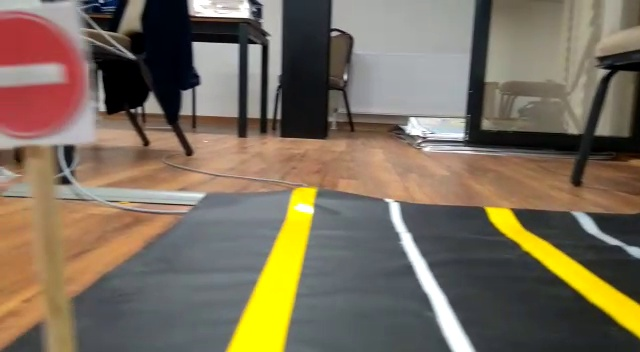girisi_olmayan_yol: (1, 7, 95, 138)
